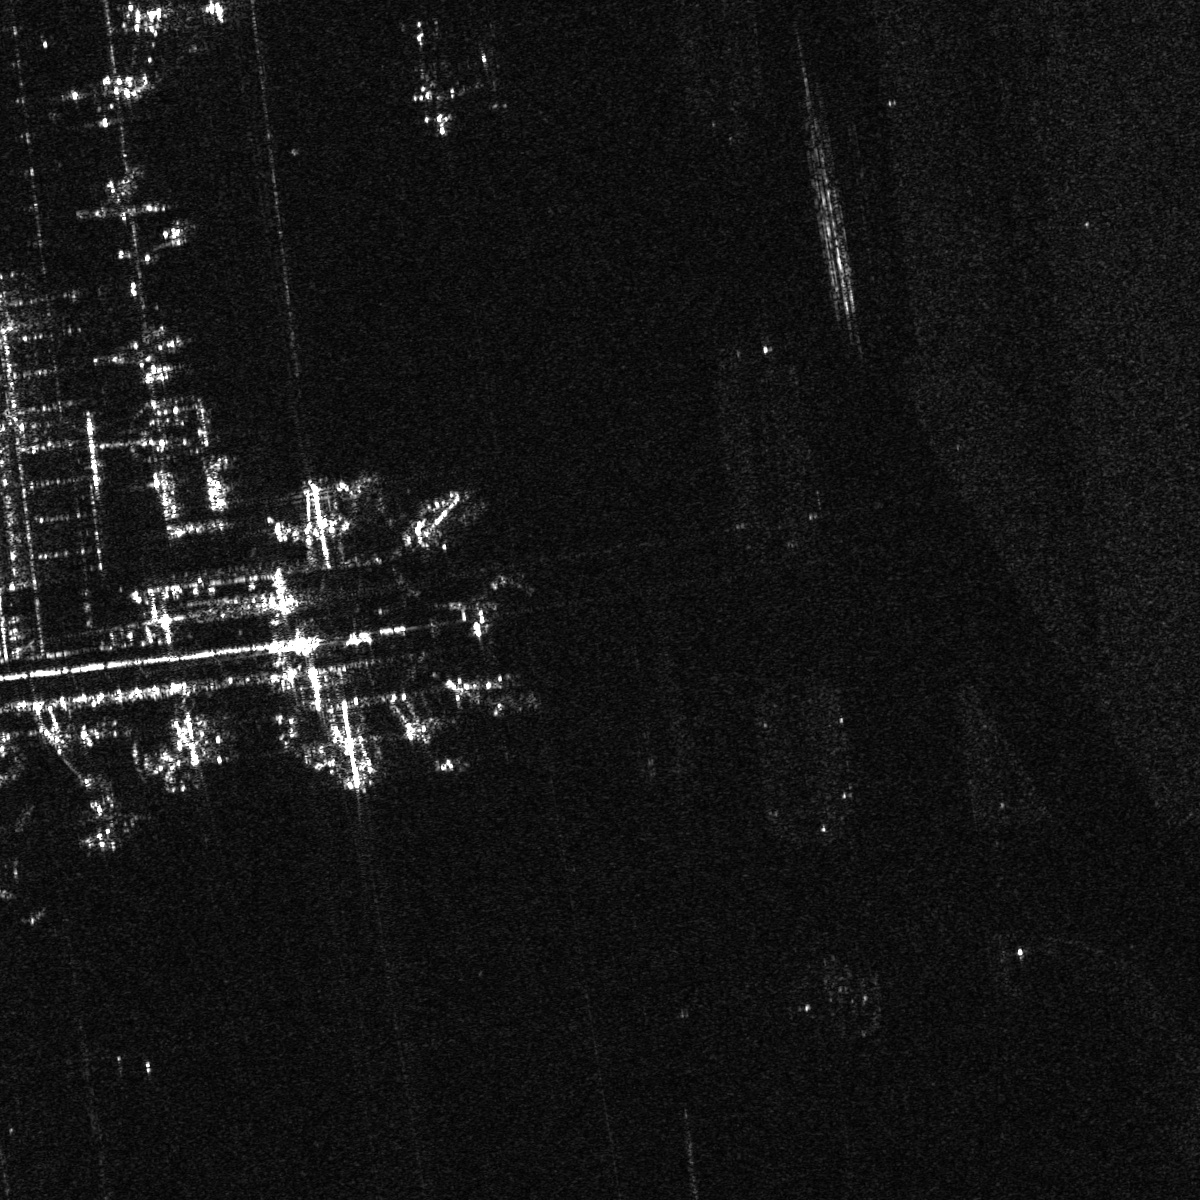Boeing787: (85, 160, 185, 248)
